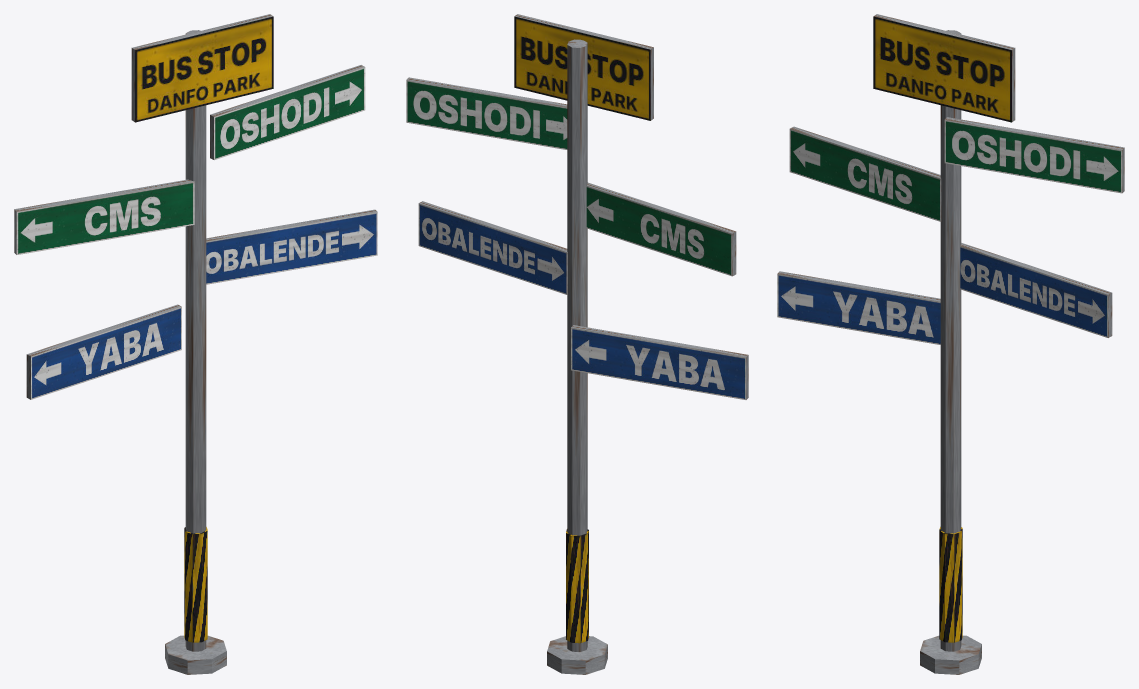
File: bp_sign.glb
The picture shows the model from 3 angles, left to right: view 1: azimuth 30°, elevation 25°; view 2: azimuth 150°, elevation 25°; view 3: azimuth 330°, elevation 25°; orthographic projection.
Visible parts, largest first — view 1: bp_sign_body; view 2: bp_sign_body; view 3: bp_sign_body.
Part boxes in pixels (box(x1,y1,x2,y2)): bp_sign_body: box(14, 14, 377, 674); bp_sign_body: box(406, 14, 748, 674); bp_sign_body: box(777, 14, 1124, 674).
Bounding box in the file's own units: 1.48 × 2.63 × 0.24.
Materials: 1 (1 with a texture image).
